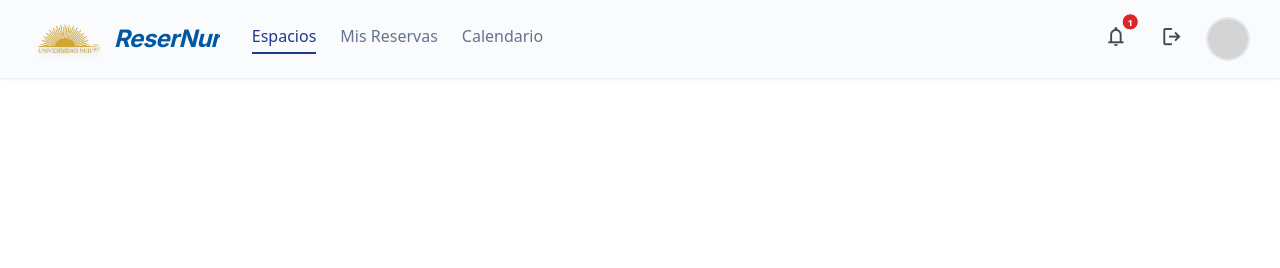
TopNavBar Component › debería marcar las notificaciones como leídas al abrir el panel
Expected: the text "1" is shown, 1122,13 -> 1139,30
Click the button titled "Notificaciones".
click(1116, 39)  # box 1097,17 -> 1135,61
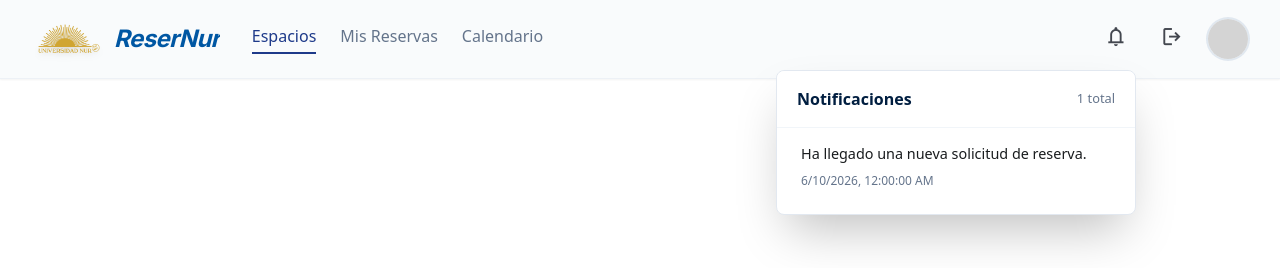
Expected: the text "Ha llegado una nueva solicitud de reserva." is shown, 801,144 -> 1115,164
